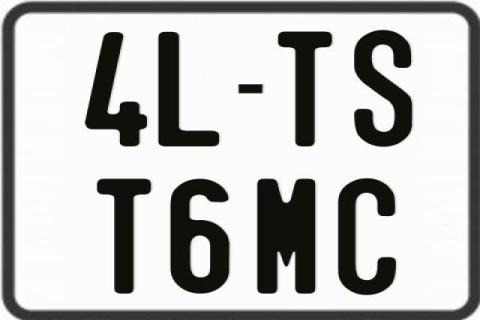0: (83, 30, 150, 146), (170, 179, 234, 295)
C: (338, 176, 402, 295)
L: (155, 32, 217, 150)
M: (257, 178, 320, 298)
S: (353, 29, 417, 147)
T: (278, 29, 338, 144), (97, 178, 152, 294)
